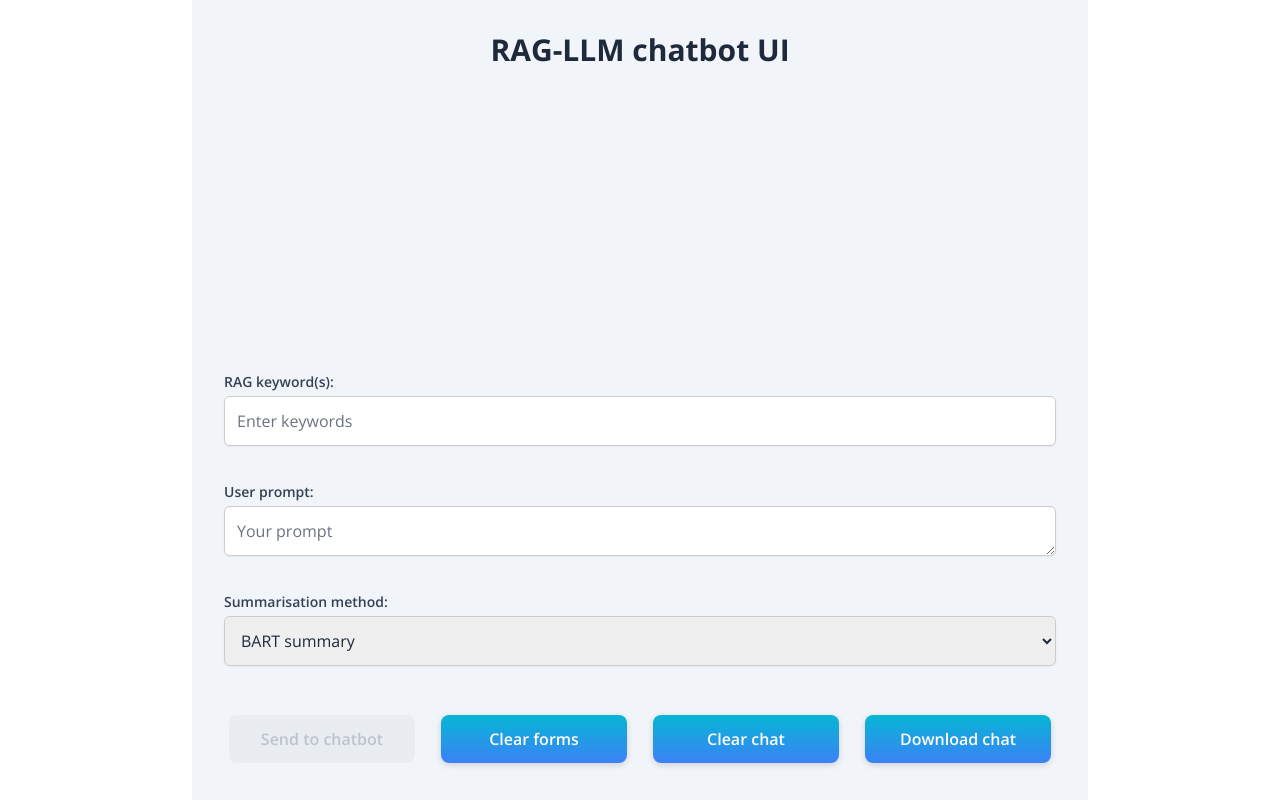
it: ChatInterface Component › should handle fetch errors
Type "test keywords" into the field labelled "RAG keyword(s):" at [640, 421], box top-left (224, 396), bottom-right (1056, 446)
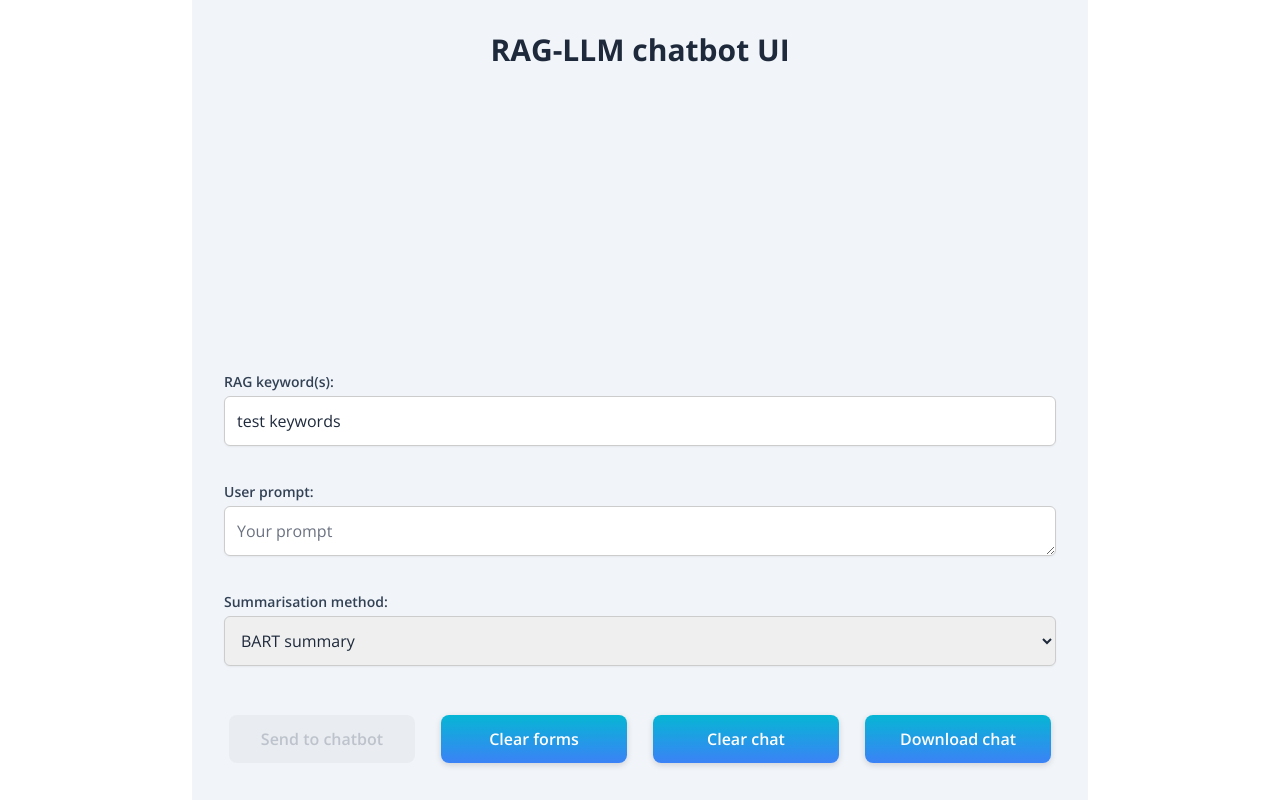
Type "test prompt" into the text box labelled "User prompt:" at [640, 531], box top-left (224, 506), bottom-right (1056, 556)
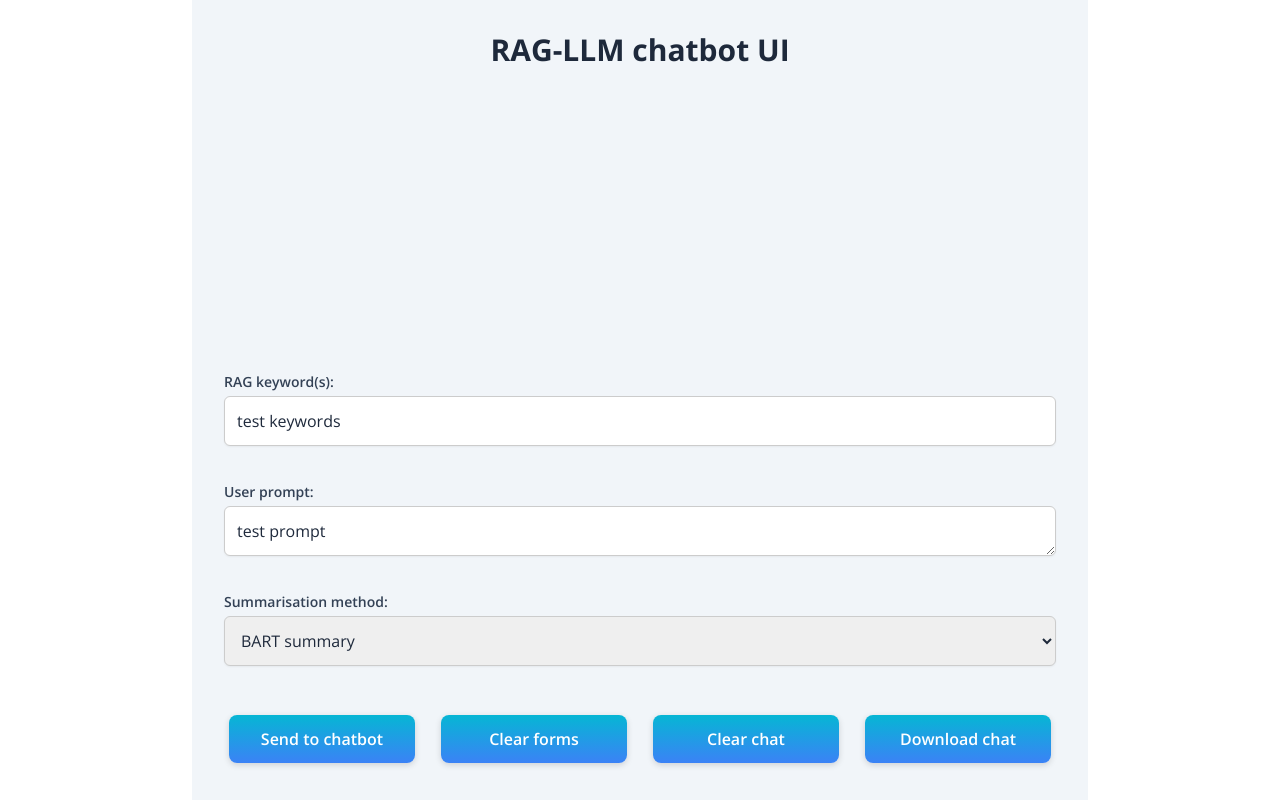
Click the button "Send to chatbot" at [322, 739], box top-left (229, 715), bottom-right (415, 763)
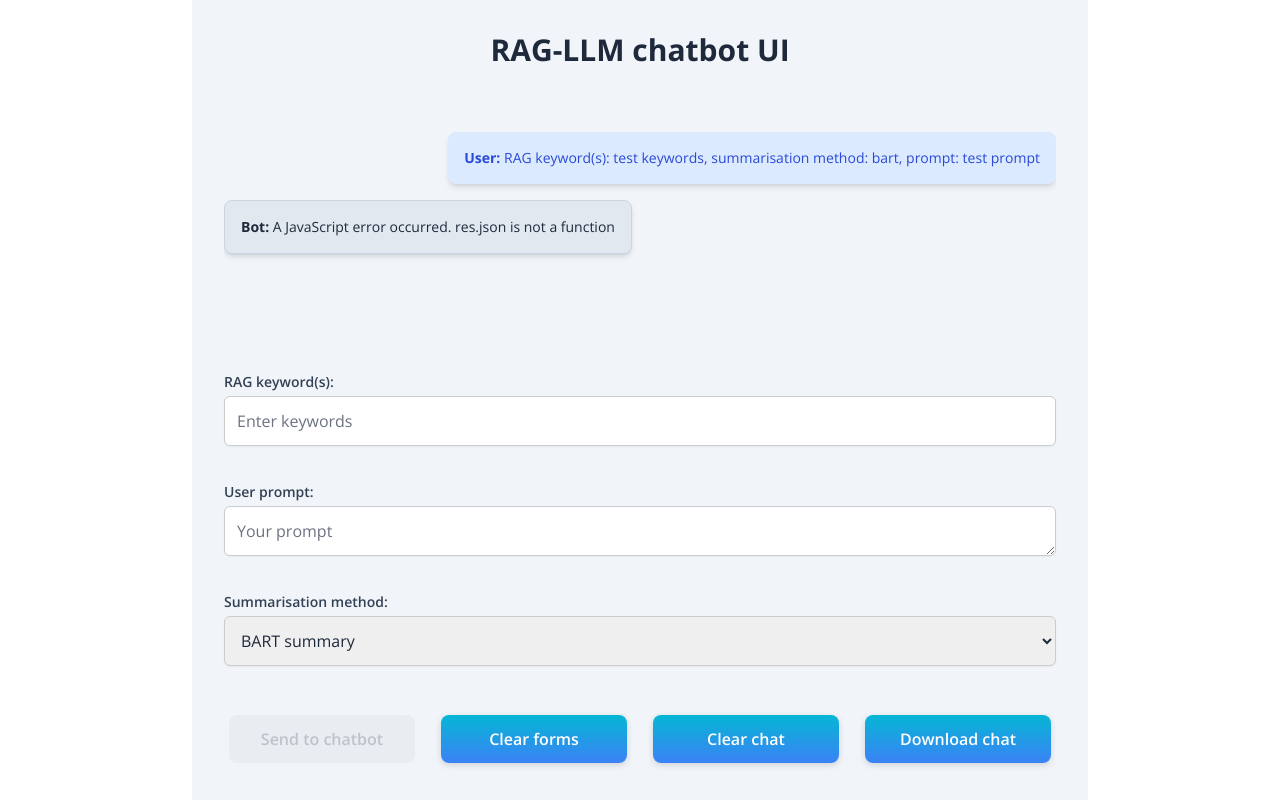
Result: the text "Bot: A JavaScript error occurred. res.json is not a function" is shown at top-left (224, 200), bottom-right (632, 254)
